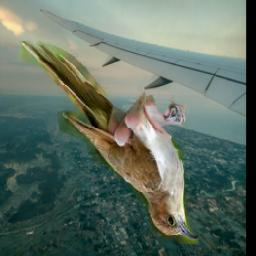Cuckoo: (19, 41, 200, 244)
